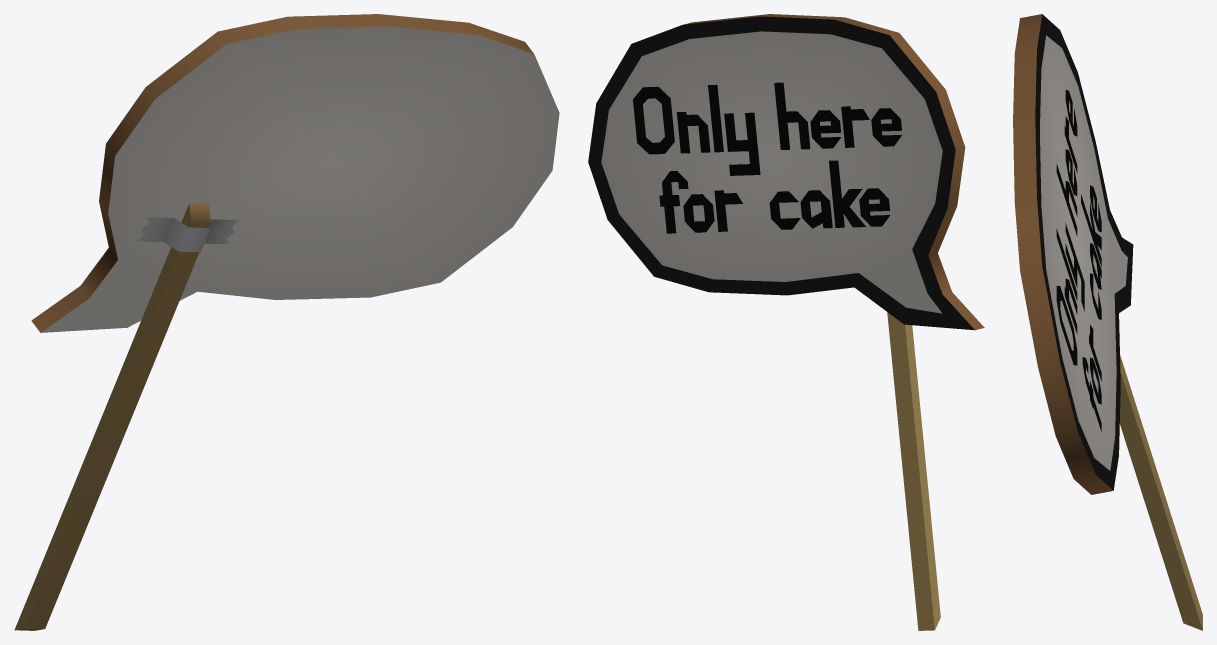
The model's file is hat_boothcake.glb.
3 renders of one model, left to right at view 1: azimuth 30°, elevation 25°; view 2: azimuth 150°, elevation 25°; view 3: azimuth 270°, elevation 25°, orthographic. The views are drawn at different scales.
Parts seen in each view (by area): view 1: hat_boothcake; view 2: hat_boothcake; view 3: hat_boothcake.
Boxes of the visible parts, left/top/right/bottom form: hat_boothcake: left=14, top=14, right=559, bottom=630; hat_boothcake: left=588, top=14, right=984, bottom=630; hat_boothcake: left=1013, top=14, right=1202, bottom=630.
Bounding box in the file's own units: 0.3645 × 0.4485 × 0.1145.
